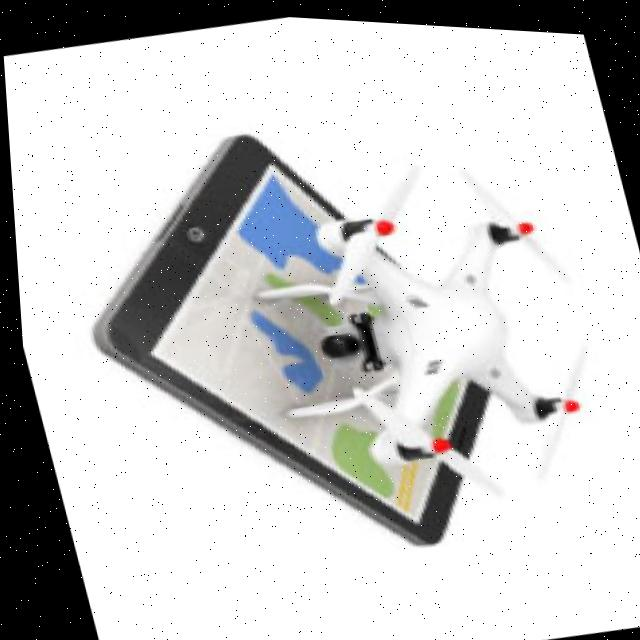drones: (216, 83, 640, 543)
